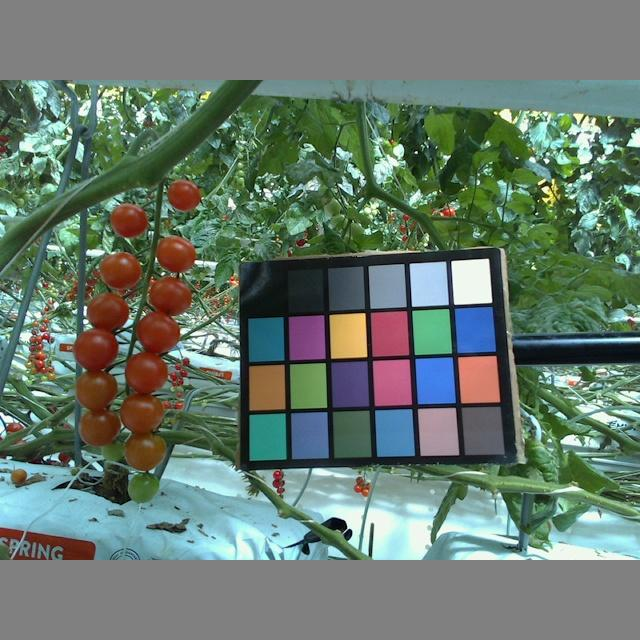green: (128, 474, 160, 503)
pink: (71, 326, 120, 371), (135, 312, 185, 353), (75, 406, 120, 449), (123, 354, 170, 395), (122, 430, 168, 470), (120, 392, 164, 433), (73, 370, 118, 410), (98, 251, 142, 290), (154, 236, 198, 273), (149, 278, 191, 316), (87, 292, 128, 330), (111, 205, 149, 238), (167, 178, 201, 213)
